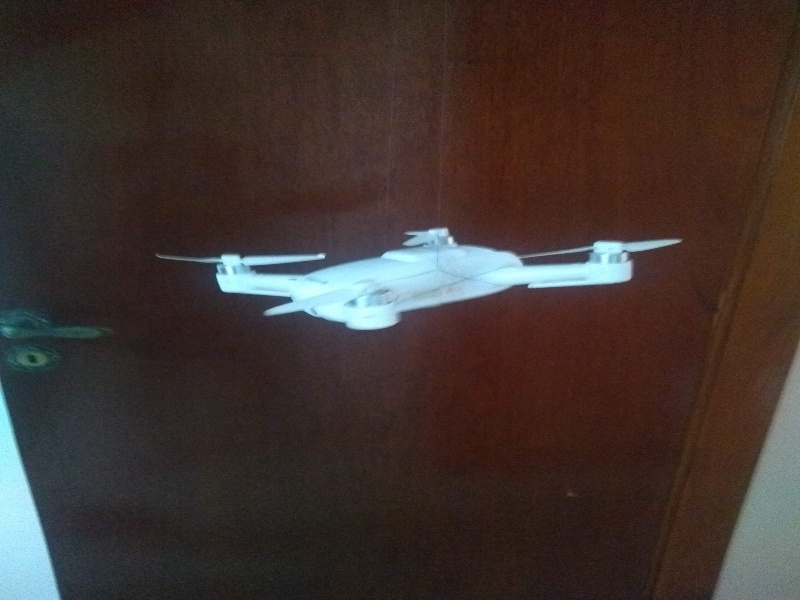drone: (174, 205, 675, 333)
